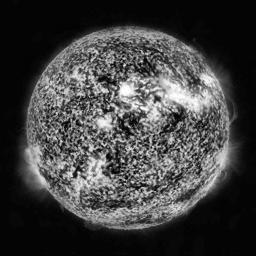solar flares: (161, 81, 197, 109), (85, 160, 109, 186), (92, 113, 114, 130), (122, 82, 138, 101), (144, 102, 159, 120), (199, 76, 215, 89)
sunspots: (92, 196, 132, 207), (133, 58, 153, 76), (109, 149, 122, 173), (119, 117, 137, 133), (102, 72, 120, 84), (168, 112, 180, 128), (73, 158, 84, 175), (195, 116, 208, 129), (63, 122, 76, 133), (47, 172, 61, 182), (182, 189, 194, 196)
